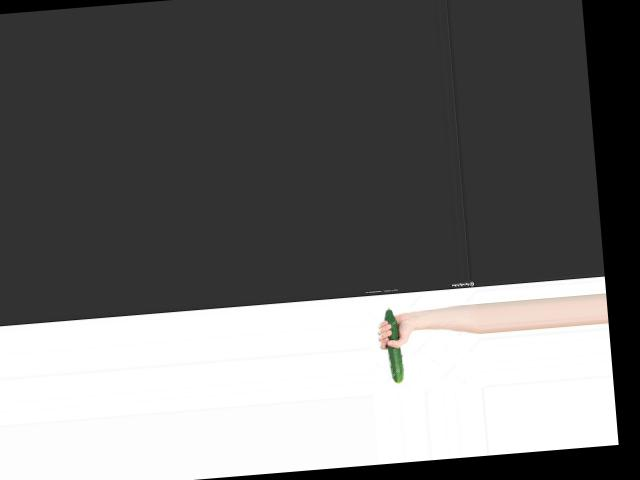cucumber: (382, 307, 404, 383)
